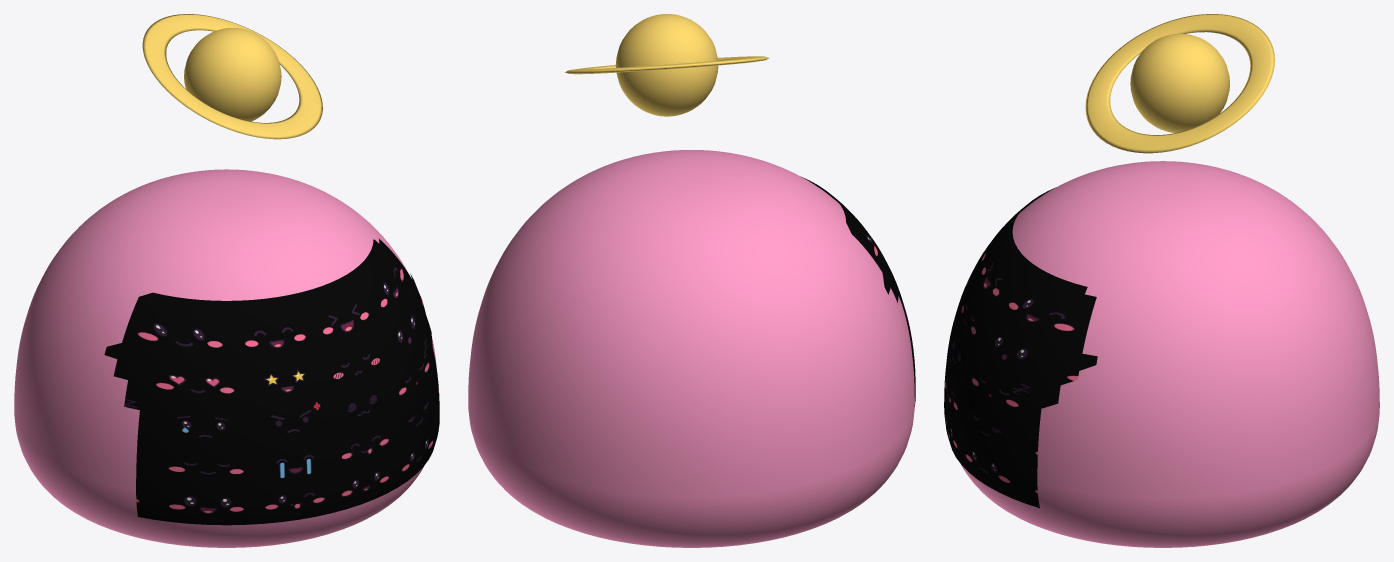
Rendered from GalaxyJelly.obj.
The picture shows the model from 3 angles, left to right: view 1: azimuth 30°, elevation 25°; view 2: azimuth 150°, elevation 25°; view 3: azimuth 270°, elevation 25°; orthographic projection. The views are drawn at different scales.
Parts seen in each view (by area): view 1: GalaxyJelly; view 2: GalaxyJelly; view 3: GalaxyJelly.
Boxes of the visible parts, x1,y1,x2,y2 form: GalaxyJelly: [14, 14, 439, 547]; GalaxyJelly: [468, 14, 915, 547]; GalaxyJelly: [944, 14, 1379, 547].
Bounding box in the file's own units: 1 × 1.13 × 1.
